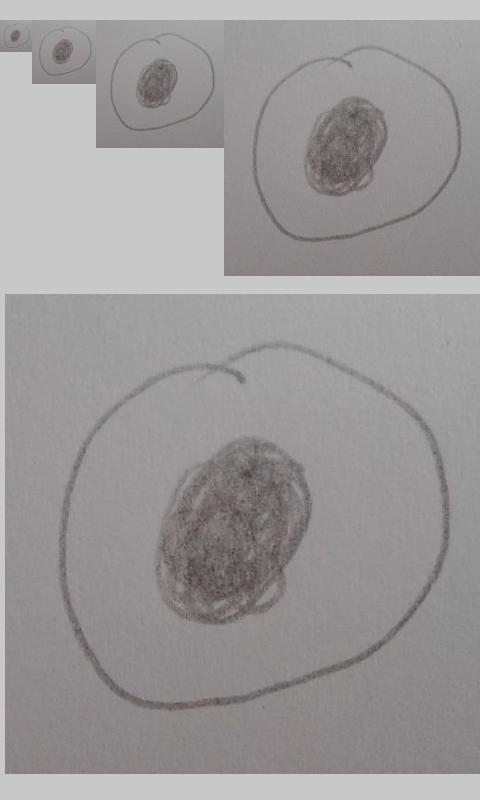radio_button: (54, 339, 452, 713), (249, 42, 465, 244), (110, 32, 215, 132), (37, 25, 93, 77), (2, 22, 31, 49)
